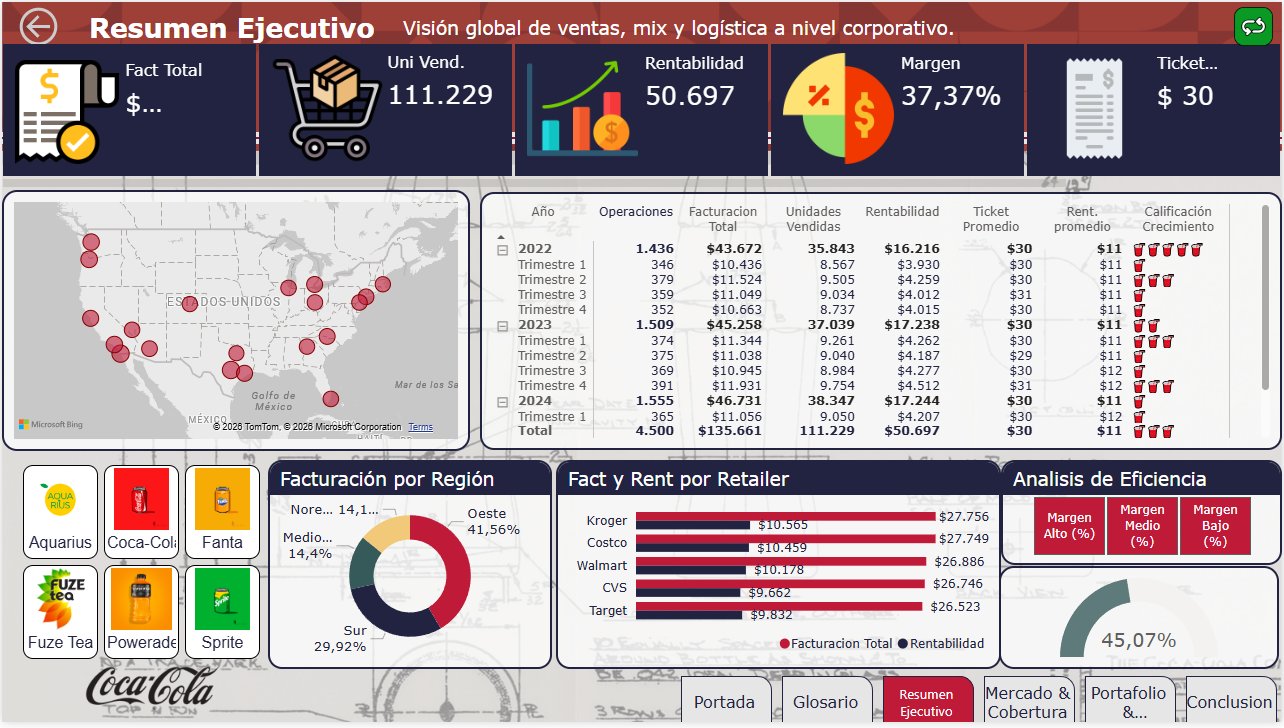

The page's visual inventory and layout, read from the dashboard file:
{"tool":"powerbi","page":{"name":"Resumen Ejecutivo","canvas":[1280,720],"ordinal":2},"visuals":[{"type":"actionButton","box":[12.3,0,73.7,49.1],"z":0},{"type":"map","fields":{"Category":["Estado.Estado","Ciudad.Ciudad"],"Size":["0000. Tabla de medidas.Facturacion"]},"box":[4.2,143.3,467.9,307.7],"z":1000},{"type":"donutChart","title":"Facturación por Región","fields":{"Category":["Region.Region"],"Y":["0000. Tabla de medidas.Facturacion"]},"box":[265.6,453.1,284.5,208.7],"z":2000},{"type":"clusteredBarChart","title":"Fact y Rent por Retailer","fields":{"Category":["Minorista.Minorista"],"Y":["Tabla de medidas.Facturacion","Tabla de medidas.Rentabilidad"]},"box":[552,455.1,445.2,209.3],"z":3000},{"type":"gauge","fields":{"Y":["Tabla de medidas.Margen Alto (%)"]},"box":[999,562.7,280.3,103.3],"z":4000},{"type":"slicer","title":"Analisis de Eficiencia","fields":{"Values":["Analisis de Eficiencia.Analisis de Eficiencia"]},"box":[998.6,455.1,280.9,105.3],"z":5000},{"type":"textbox","box":[82.5,3.5,296.5,45.6],"z":6000},{"type":"shape","box":[0,130.2,1279.5,12.1],"z":7000},{"type":"shape","box":[0,130.2,1279.5,12.1],"z":8000},{"type":"textbox","box":[396.5,8.8,566.7,33.3],"z":9000},{"type":"pivotTable","fields":{"Rows":["Calendario DAX.Año","Calendario DAX.Trimestre"],"Values":["Tabla de medidas.Operaciones","Tabla de medidas.Facturacion","Tabla de medidas.Unidades Vendidas","Tabla de medidas.Rentabilidad","Tabla de medidas.Fac. promedio","Tabla de medidas.Rent. promedio","Tabla de medidas.Calificación Crecimiento","select"]},"box":[474.7,143.3,802,307.6],"z":10000},{"type":"ChicletSlicer1448559807354","fields":{"Category":["Marca.Linea"],"Image":["Marca.Logo"]},"box":[12.6,455.2,252.9,240.3],"z":11000},{"type":"image","box":[0,640.7,301.4,80.1],"z":12000},{"type":"pageNavigator","box":[678.6,670.2,600.7,50.6],"z":13000},{"type":"cardVisual","fields":{"Data":["Tabla de medidas.Facturacion Total","Tabla de medidas.Unidades Vendidas","Tabla de medidas.Rentabilidad","Tabla de medidas.Margen Operativo","Tabla de medidas.Ticket Promedio","Tabla de medidas.Precio Promedio Unidad"]},"box":[1.5,47.7,1278.5,89.2],"z":14000},{"type":"image","box":[1221.6,0,58,48.9],"z":15000}]}

Visuals, with their boxes in screenshot pixels (x1, y1, x2, y2), scaled from the page's 1280x720 canvas onto the 1284x728 screenshot:
actionButton: 12/0/86/50
map - Estado.Estado x Ciudad.Ciudad: 4/145/474/456
"Facturación por Región" donutChart: 266/458/552/669
"Fact y Rent por Retailer" clusteredBarChart: 554/460/1000/672
gauge - Tabla de medidas.Margen Alto (%): 1002/569/1283/673
"Analisis de Eficiencia" slicer: 1002/460/1283/567
textbox: 83/4/380/50
shape: 0/132/1283/144
shape: 0/132/1283/144
textbox: 398/9/966/43
pivotTable - Calendario DAX.Año x Calendario DAX.Trimestre: 476/145/1281/456
ChicletSlicer1448559807354 - Marca.Linea x Marca.Logo: 13/460/266/703
image: 0/648/302/727
pageNavigator: 681/678/1283/727
cardVisual - Tabla de medidas.Facturacion Total x Tabla de medidas.Unidades Vendidas: 2/48/1283/138
image: 1225/0/1283/49
